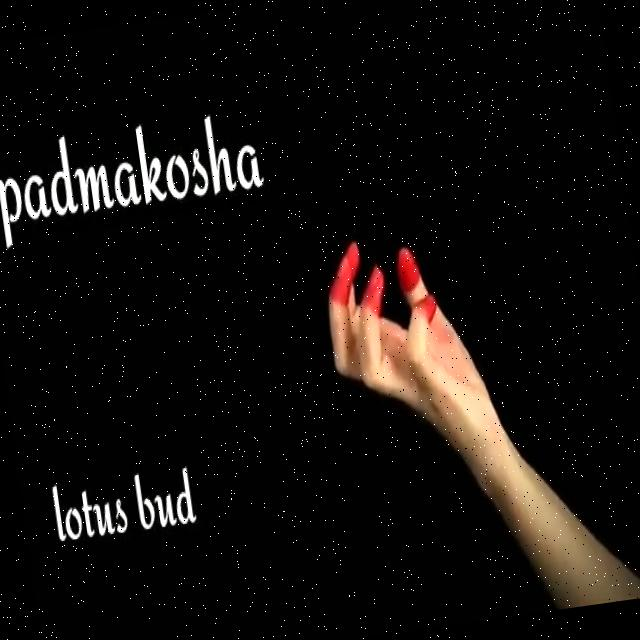Padmakosha: (300, 200, 498, 478)
text: (0, 106, 275, 252), (44, 450, 205, 560)
